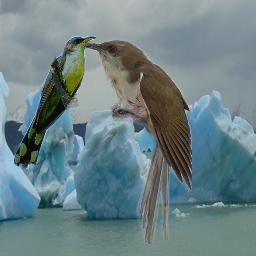Cuckoo: (79, 38, 192, 244), (14, 36, 96, 170)
